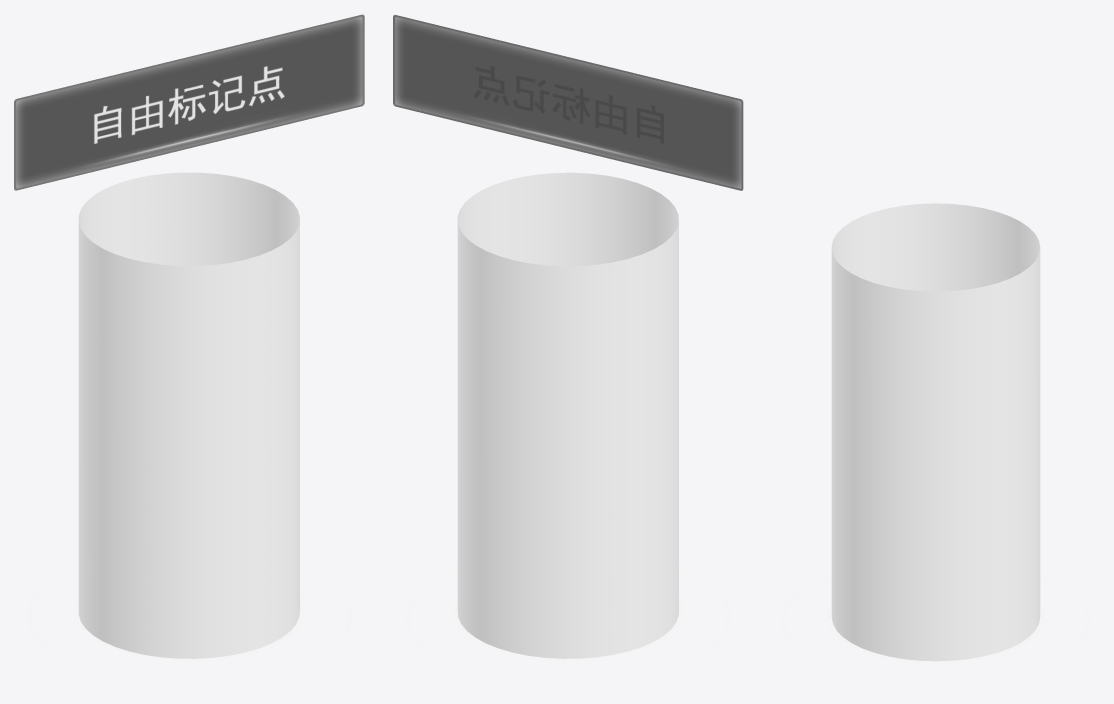
Rendered from SM_POI_Diamond.glb.
3 views of the same model, side by side, from view 1: azimuth 30°, elevation 25°; view 2: azimuth 150°, elevation 25°; view 3: azimuth 270°, elevation 25° (orthographic). The views are drawn at different scales.
Parts seen in each view (by area): view 1: Poly_Lighting, Poly_UI_Box, Poly_Round_Wave, Poly_Text, Poly_Round_Center; view 2: Poly_Lighting, Poly_UI_Box, Poly_Round_Wave, Poly_Text, Poly_Round_Center; view 3: Poly_Lighting, Poly_Round_Wave, Poly_Round_Center.
Boxes of the visible parts, x1,y1,x2,y2 form: Poly_Lighting: (78,172,299,658); Poly_UI_Box: (14,14,364,190); Poly_Round_Wave: (26,565,352,686); Poly_Text: (94,66,284,143); Poly_Round_Center: (74,598,304,661); Poly_Lighting: (457,172,678,658); Poly_UI_Box: (393,15,743,190); Poly_Round_Wave: (405,565,731,685); Poly_Text: (474,66,663,143); Poly_Round_Center: (453,598,683,660); Poly_Lighting: (831,203,1040,661); Poly_Round_Wave: (780,574,1090,686); Poly_Round_Center: (826,603,1044,662).
Size of the model in its own units: 1.6 by 2.44 by 1.38.
7 materials, 6 textured.
